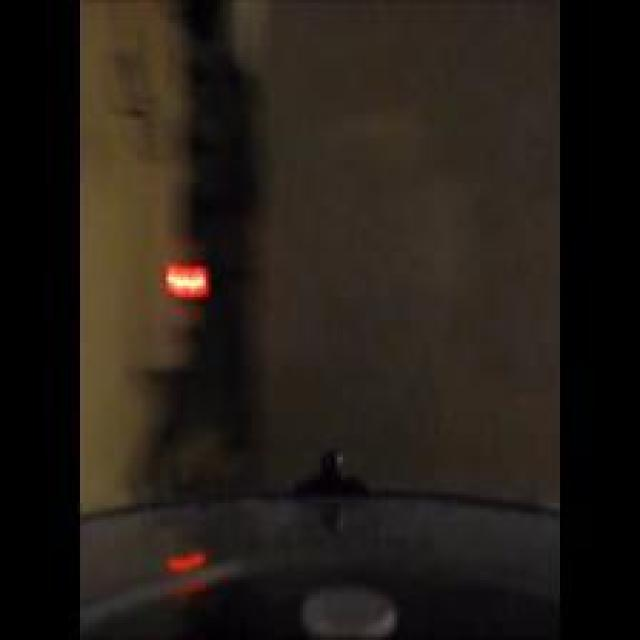other: (130, 240, 238, 316), (108, 518, 213, 582)
